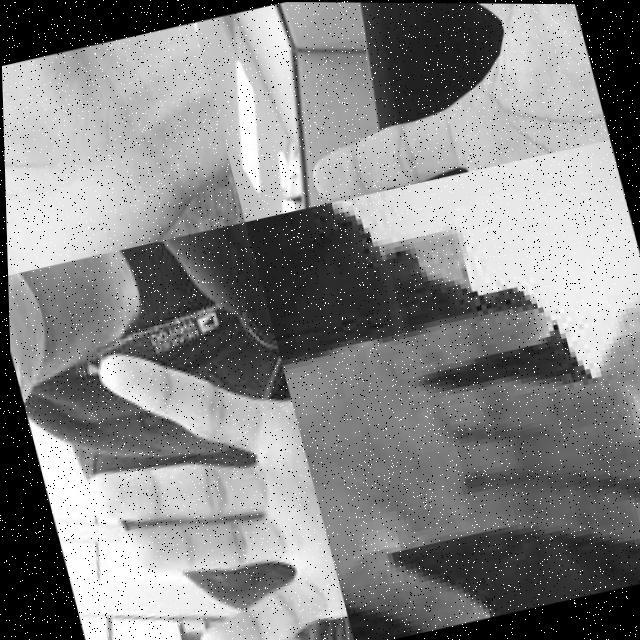no-gloves: (271, 258, 640, 640), (44, 299, 348, 640), (257, 2, 610, 208), (0, 34, 188, 280)
